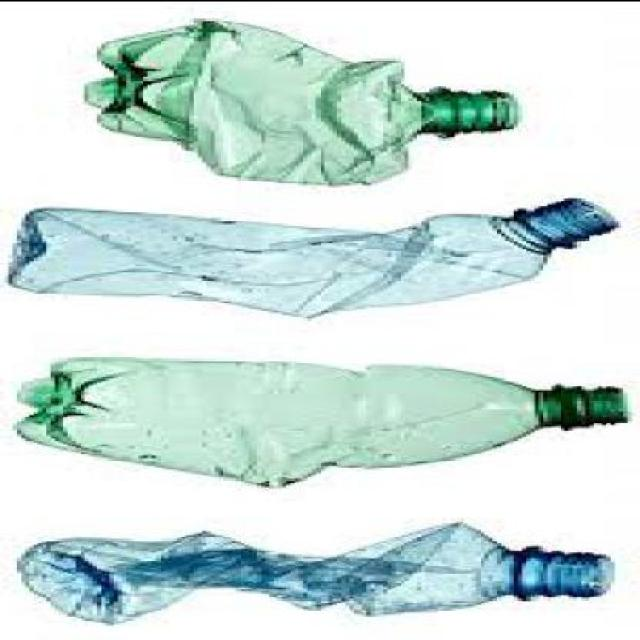PLASTIC: (16, 358, 632, 487), (92, 21, 526, 188), (17, 200, 623, 317), (29, 522, 623, 627)
